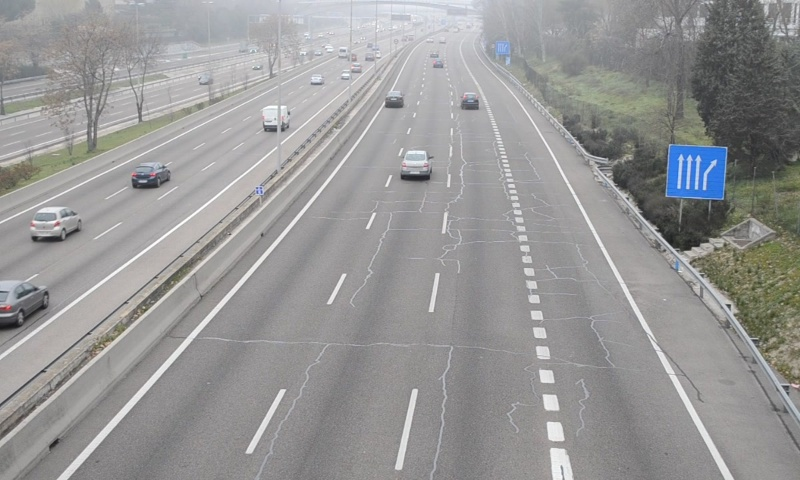car: (402, 150, 431, 178), (384, 91, 403, 108), (460, 92, 478, 107)
